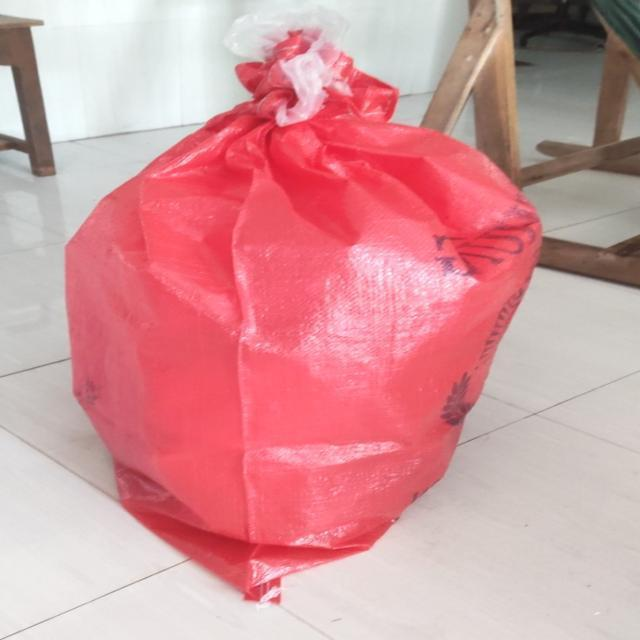gunny_bag: (65, 7, 544, 604)
